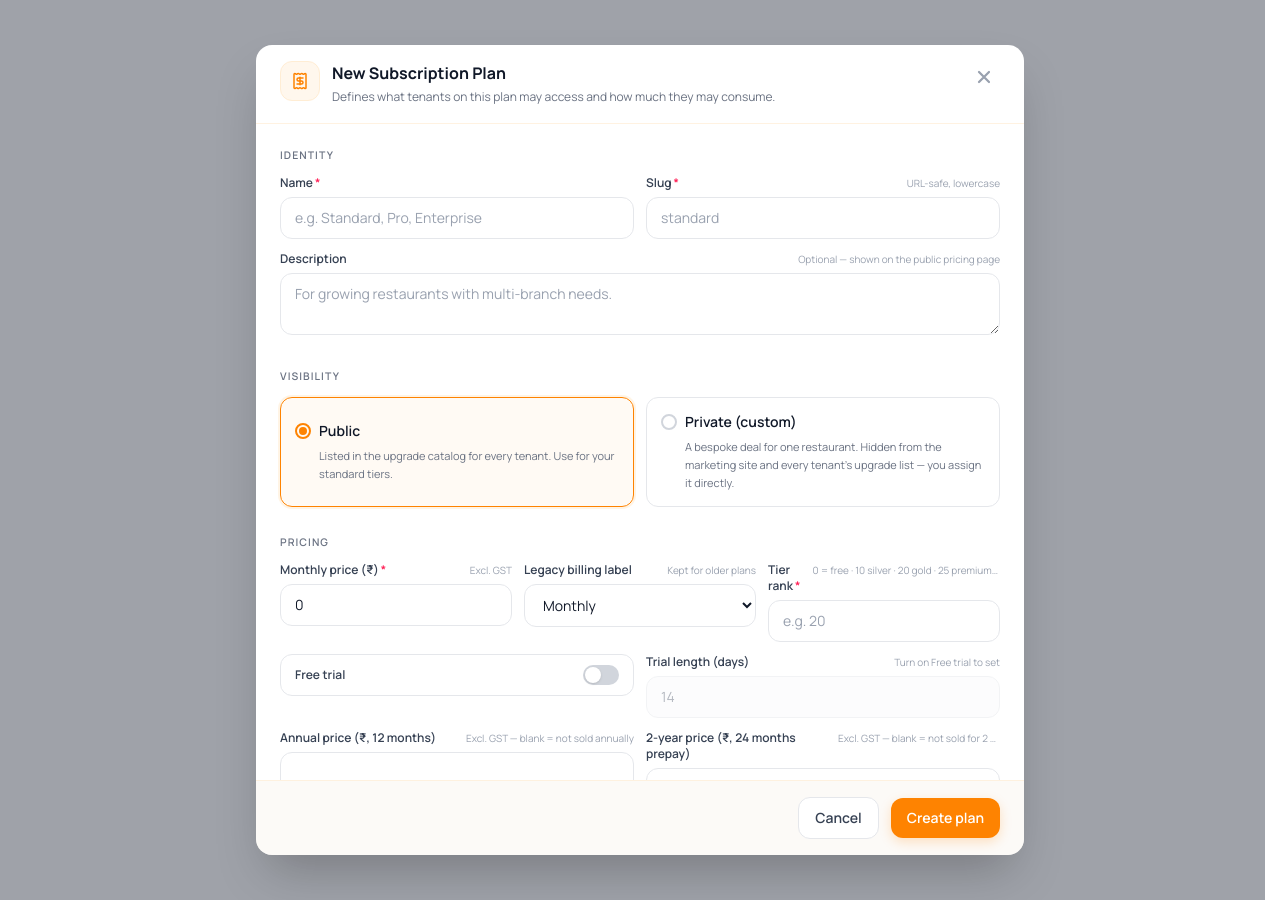
PlanFormModal tier / trial / card fields › tier must be a whole number >= 0
In the field labelled "Name*": (457, 218) [280, 197, 634, 239], type "Starter"
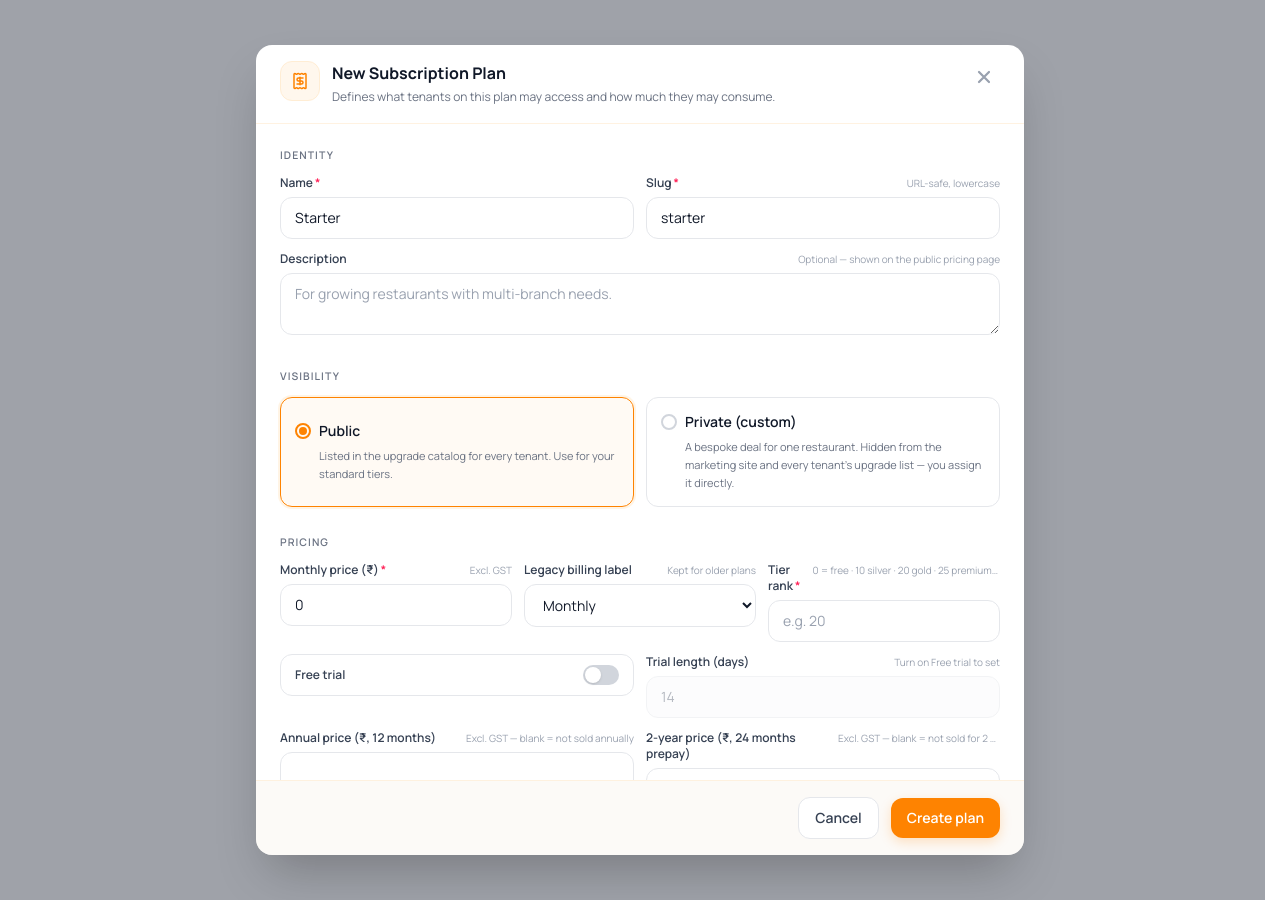
Replace the text in the number field labelled "Monthly price (₹)* Excl. GST" with "499": (396, 605) [280, 584, 512, 626]
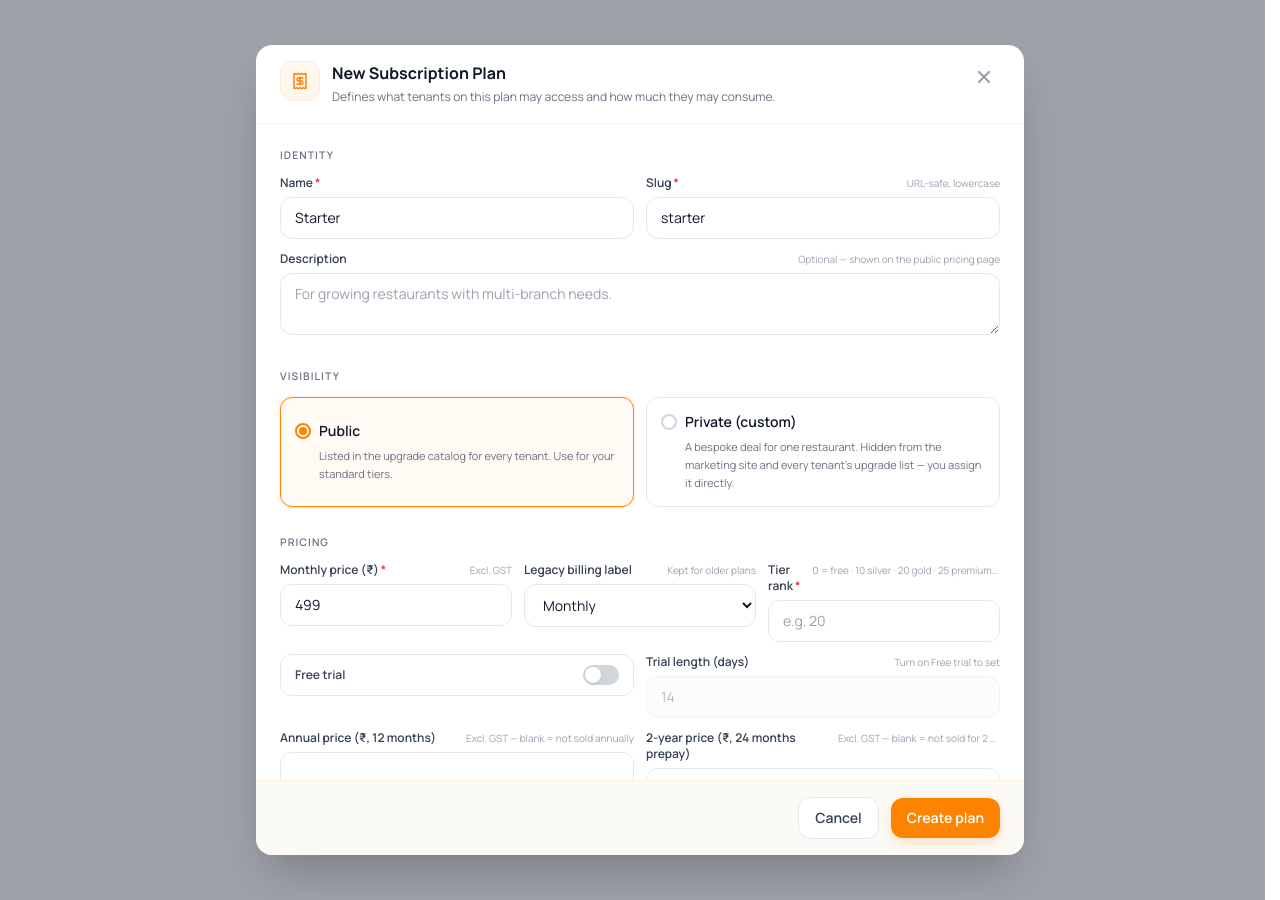
In the 2nd number field: (884, 621) [768, 600, 1000, 642], type "-1"
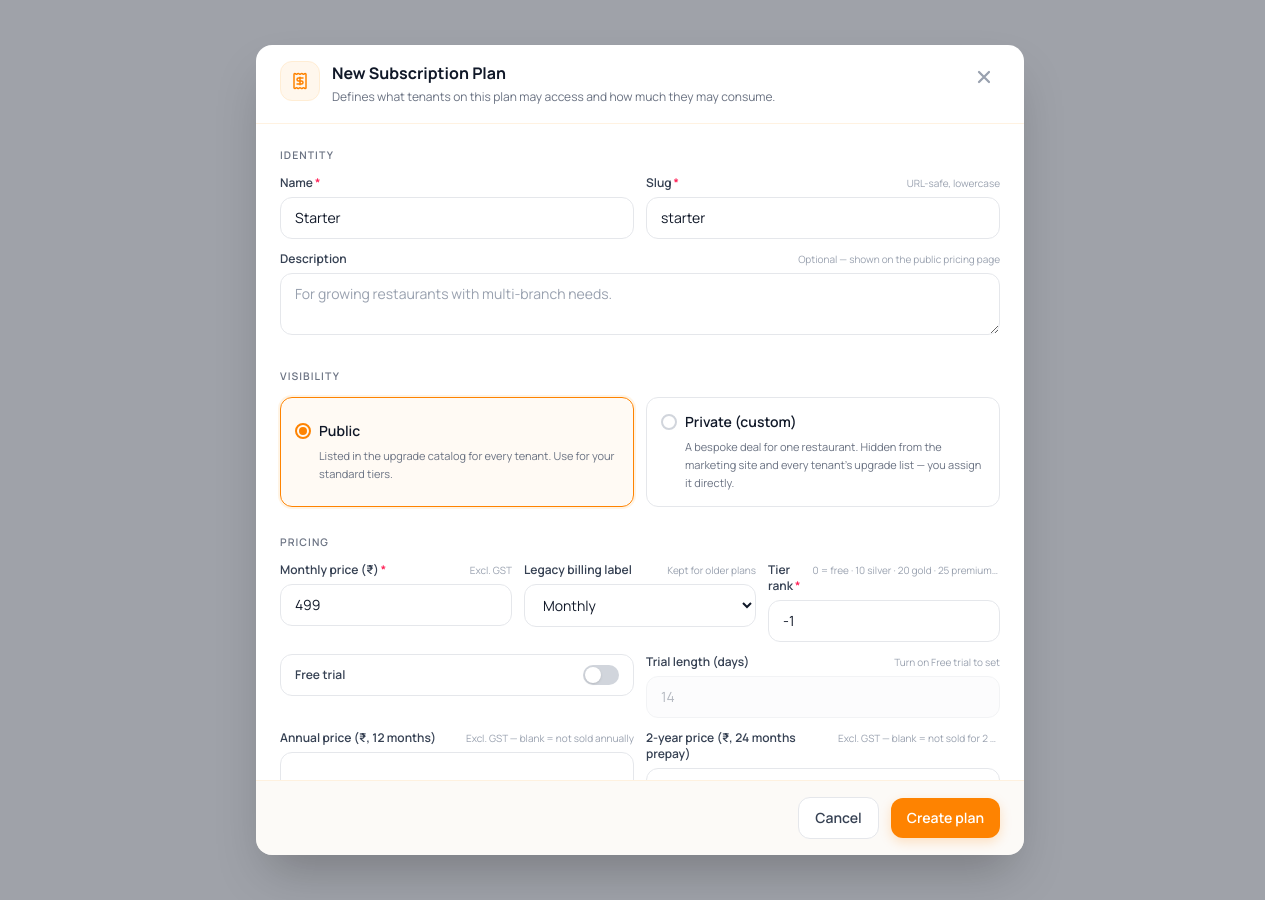
Click the button "Create plan": (945, 818) [891, 798, 1000, 838]
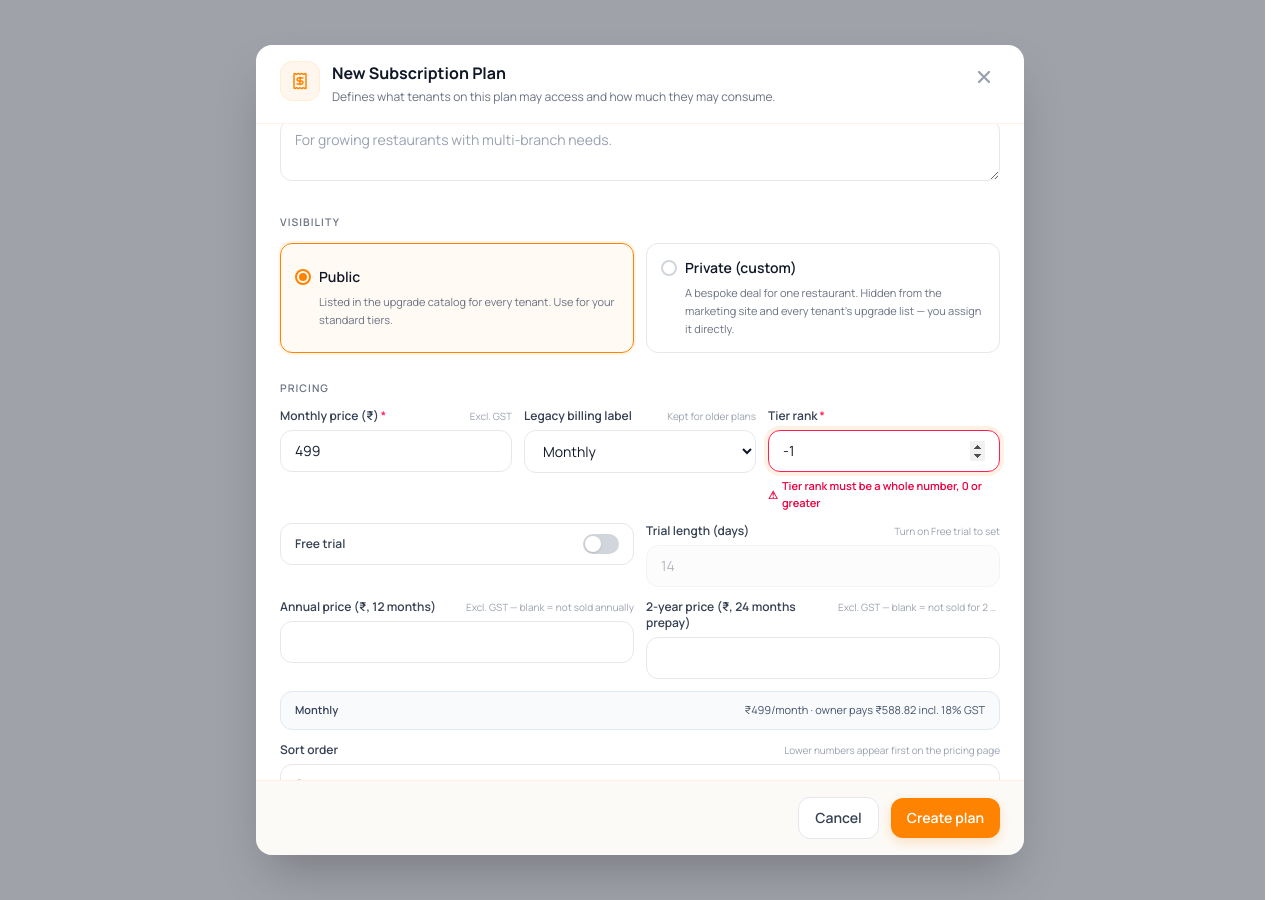
Now the text "⚠ Tier rank must be a whole number, 0 or greater" is shown, box [768, 478, 1000, 511]
